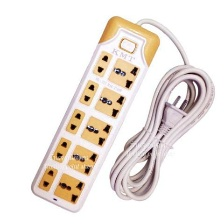three_eye_plug: (28, 13, 164, 214)
